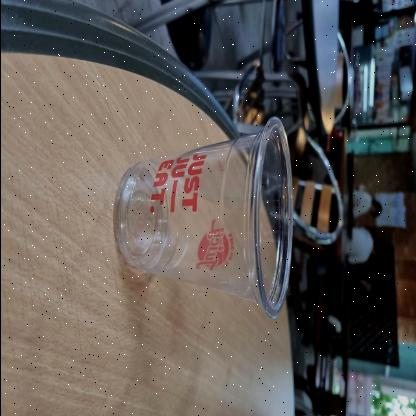Others: (112, 118, 292, 316)
